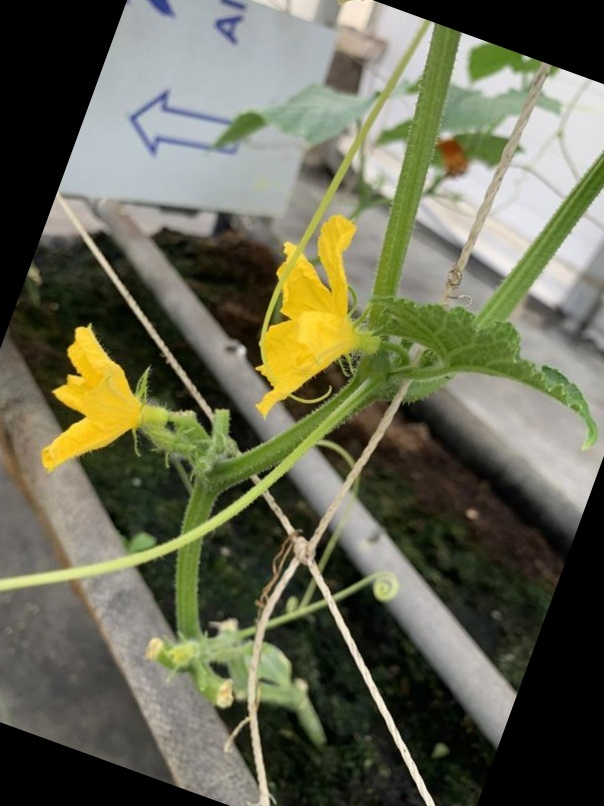flowering: (32, 320, 181, 483)
